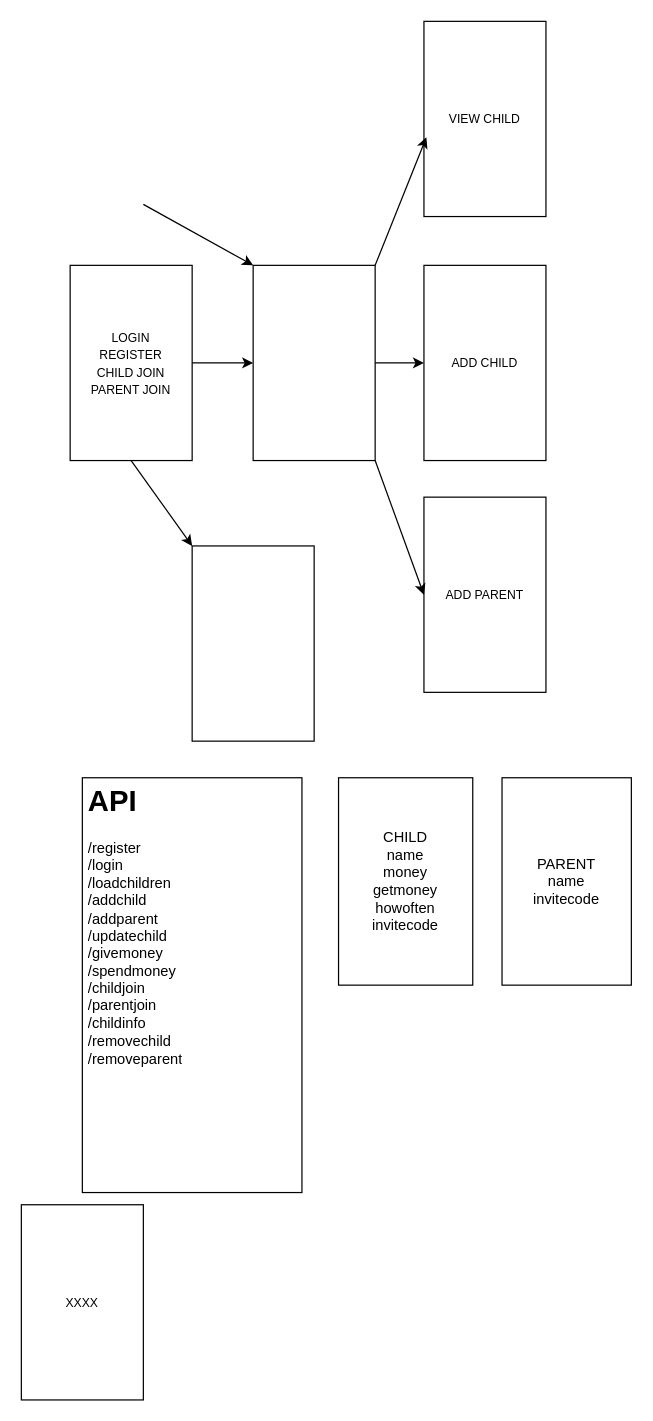
Some shapes in this 653 by 1421 pixel diagram are drawn without their labels. Here are the shapes that lost their labels. From the top down, the box of each, then its label:
(252, 264, 375, 461): START LIST CHILDREN ADD CHILD ADD PARENT
(191, 545, 314, 741): CHILD
